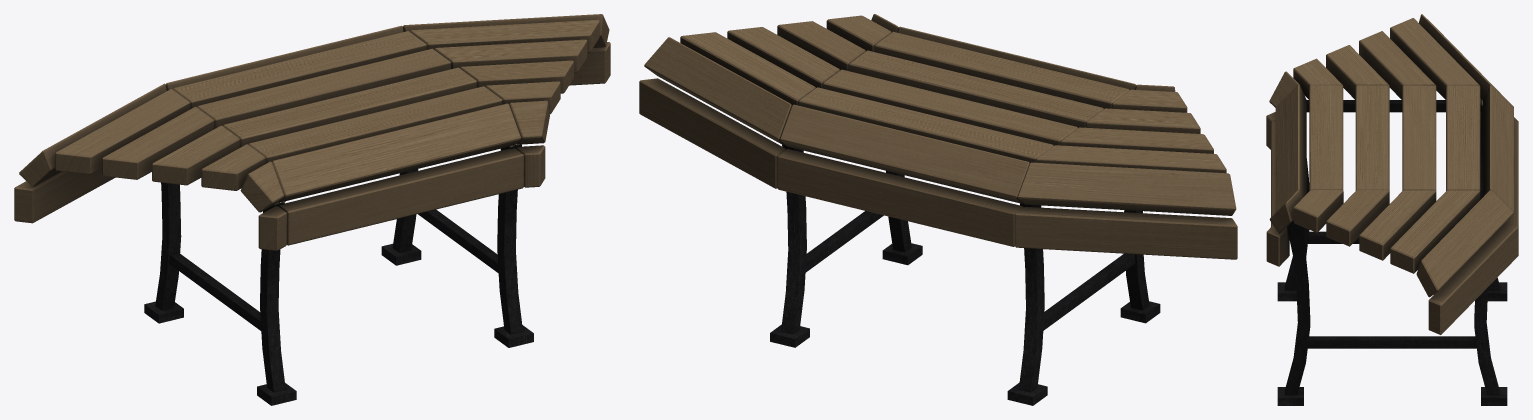
The model's file is Usual bench D model.FBX.
3 views of the same model, side by side, from view 1: azimuth 30°, elevation 25°; view 2: azimuth 150°, elevation 25°; view 3: azimuth 270°, elevation 25° (orthographic). The views are drawn at different scales.
Visible parts, largest first — view 1: Usual bench D; view 2: Usual bench D; view 3: Usual bench D.
Part boxes in pixels (<box>): Usual bench D: <box>14,14,610,405</box>; Usual bench D: <box>639,14,1237,405</box>; Usual bench D: <box>1266,14,1518,405</box>.
Bounding box in the file's own units: 1420 × 531 × 576.
Materials: 1 (1 with a texture image).
